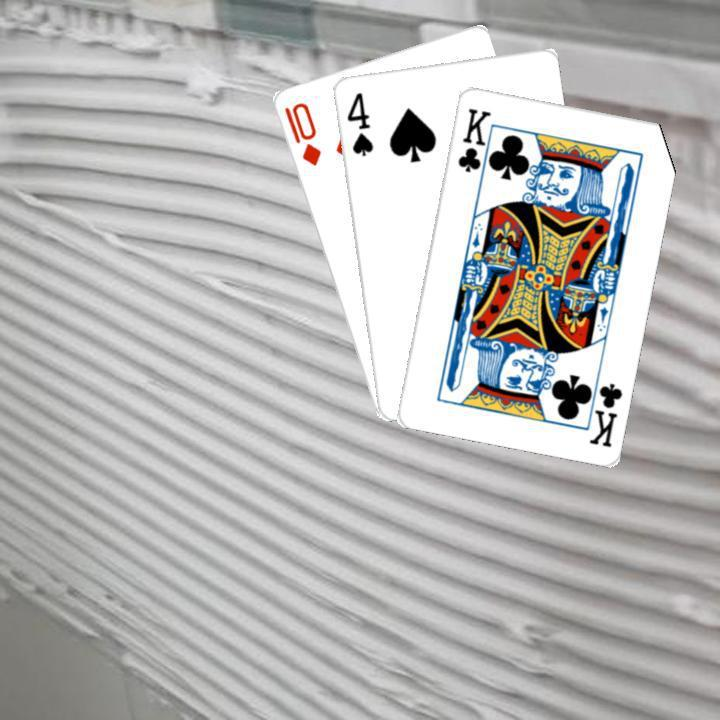10: (279, 97, 323, 168)
4: (341, 87, 375, 158)
K: (579, 368, 624, 449), (453, 103, 497, 183)
